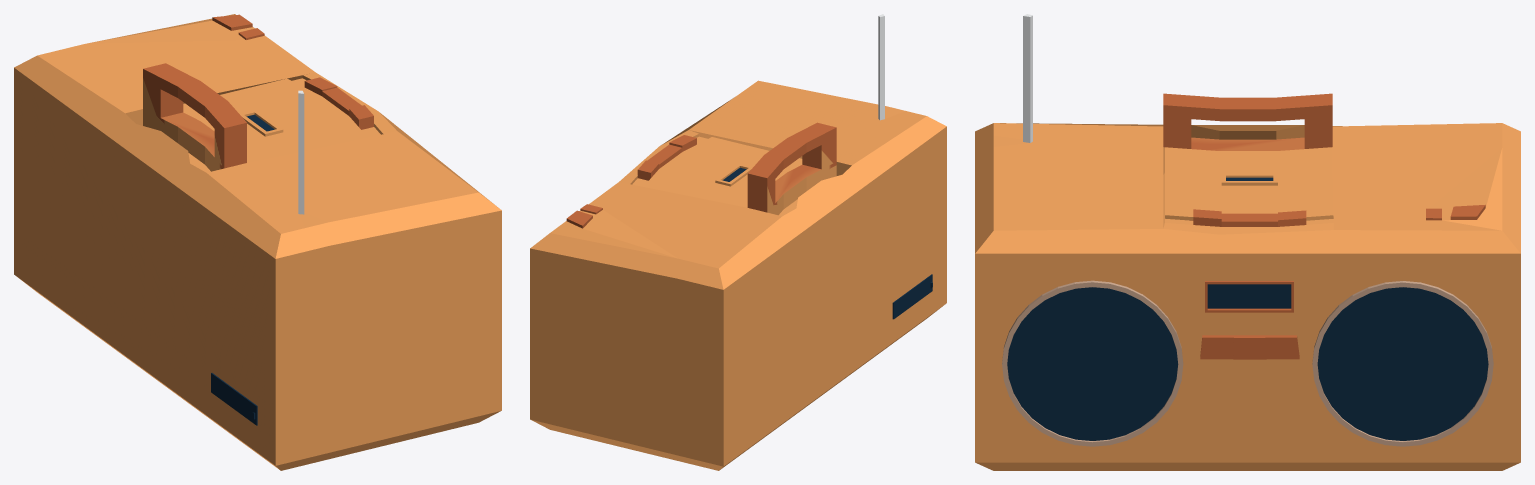
File: RADIObiGG.fbx
3 views of the same model, side by side, from view 1: azimuth 30°, elevation 25°; view 2: azimuth 150°, elevation 25°; view 3: azimuth 270°, elevation 25° (orthographic). The views are drawn at different scales.
Parts seen in each view (by area): view 1: Cube; view 2: Cube; view 3: Cube.
Part boxes in pixels (<box>): Cube: <box>14,14,501,470</box>; Cube: <box>530,14,946,470</box>; Cube: <box>975,14,1520,470</box>.
Bounding box in the file's own units: 103 × 151 × 200.
